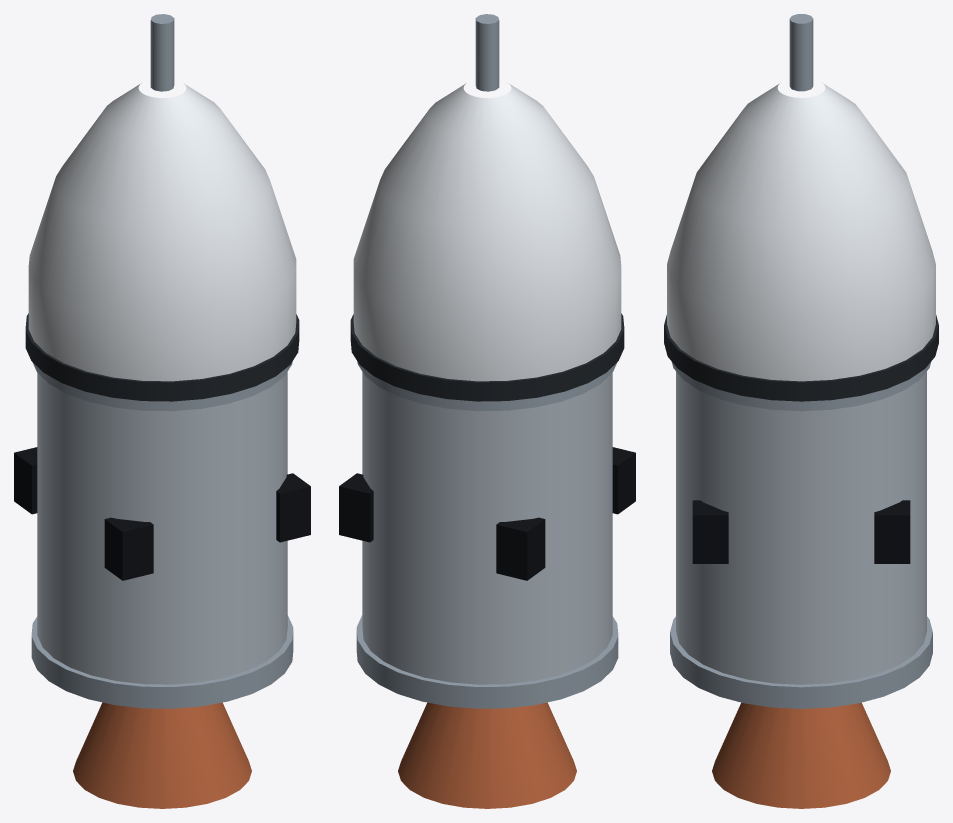
The model's file is apollo-csm.glb.
3 views of the same model, side by side, from view 1: azimuth 30°, elevation 25°; view 2: azimuth 150°, elevation 25°; view 3: azimuth 270°, elevation 25° (orthographic).
Visible parts, largest first — view 1: Apollo CSM; view 2: Apollo CSM; view 3: Apollo CSM.
Part boxes in pixels (box(x1,y1,x2,y2)): Apollo CSM: box(14, 14, 310, 808); Apollo CSM: box(339, 14, 635, 808); Apollo CSM: box(664, 14, 938, 808).
Size of the model in its own units: 1.32 by 4 by 1.32.
